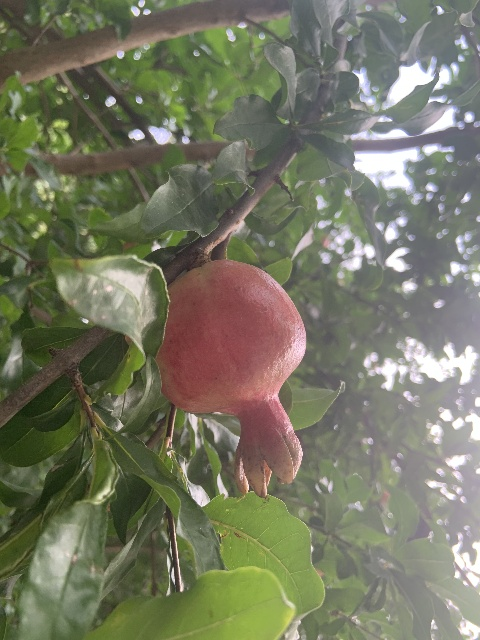ripe: (155, 260, 307, 495)
